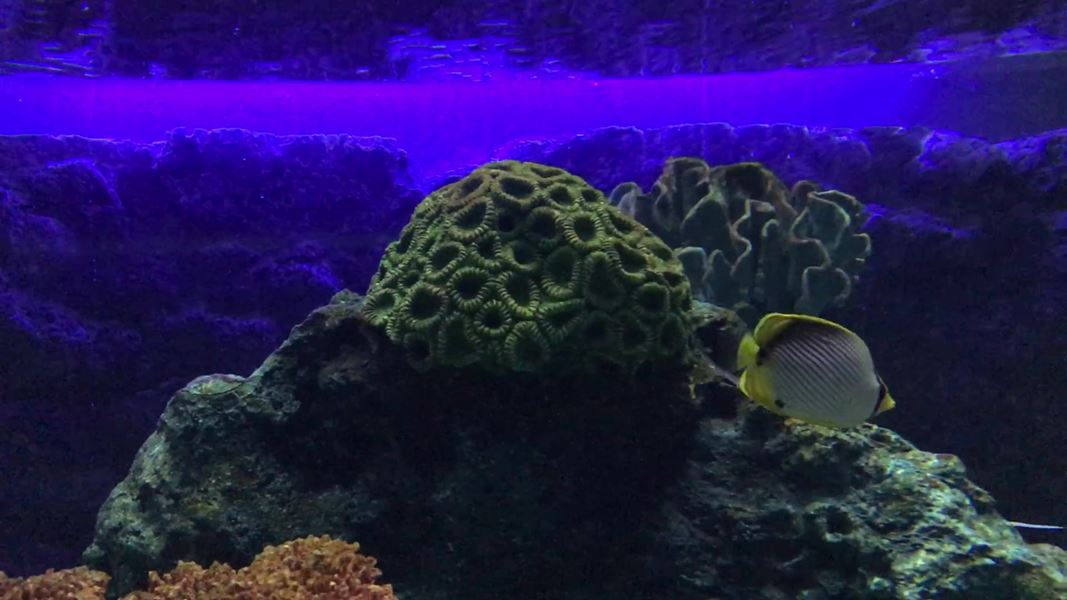Black-backed butterflyfish: (699, 303, 906, 438)
